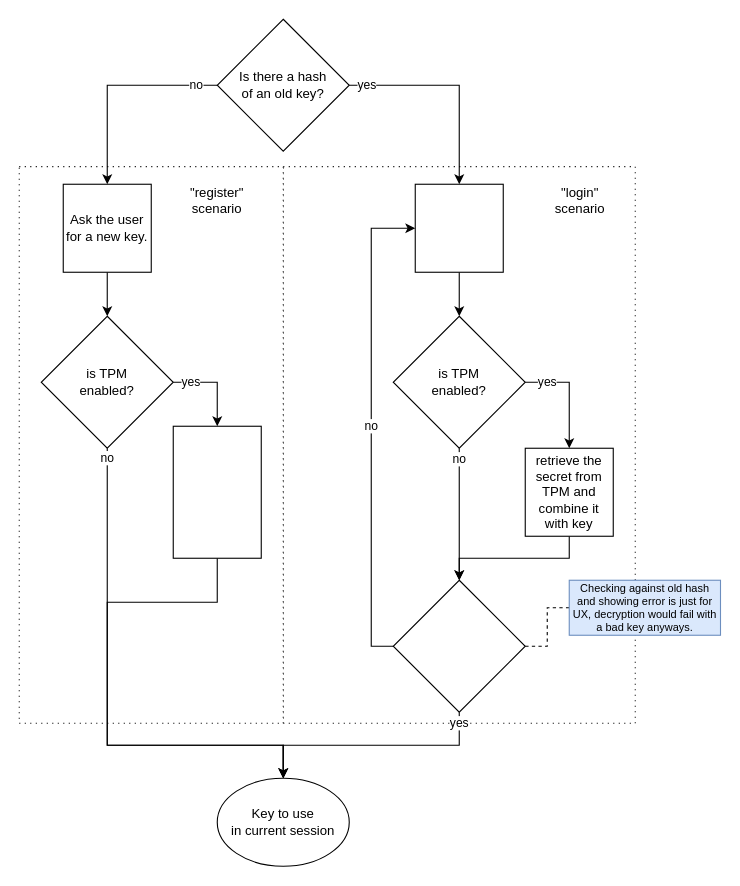
The diagram is 740 pixels wide and 886 high, and some of its shapes have lost their labels. The centre of each missing label's shape, as x and y in pixels:
"Ask the user for the old key." goes at point 458,227.
"generate a secret with TPM, store it in TPM and combine it with key" goes at point 216,491.
"hash(userKey ) == oldHash?" goes at point 458,645.
